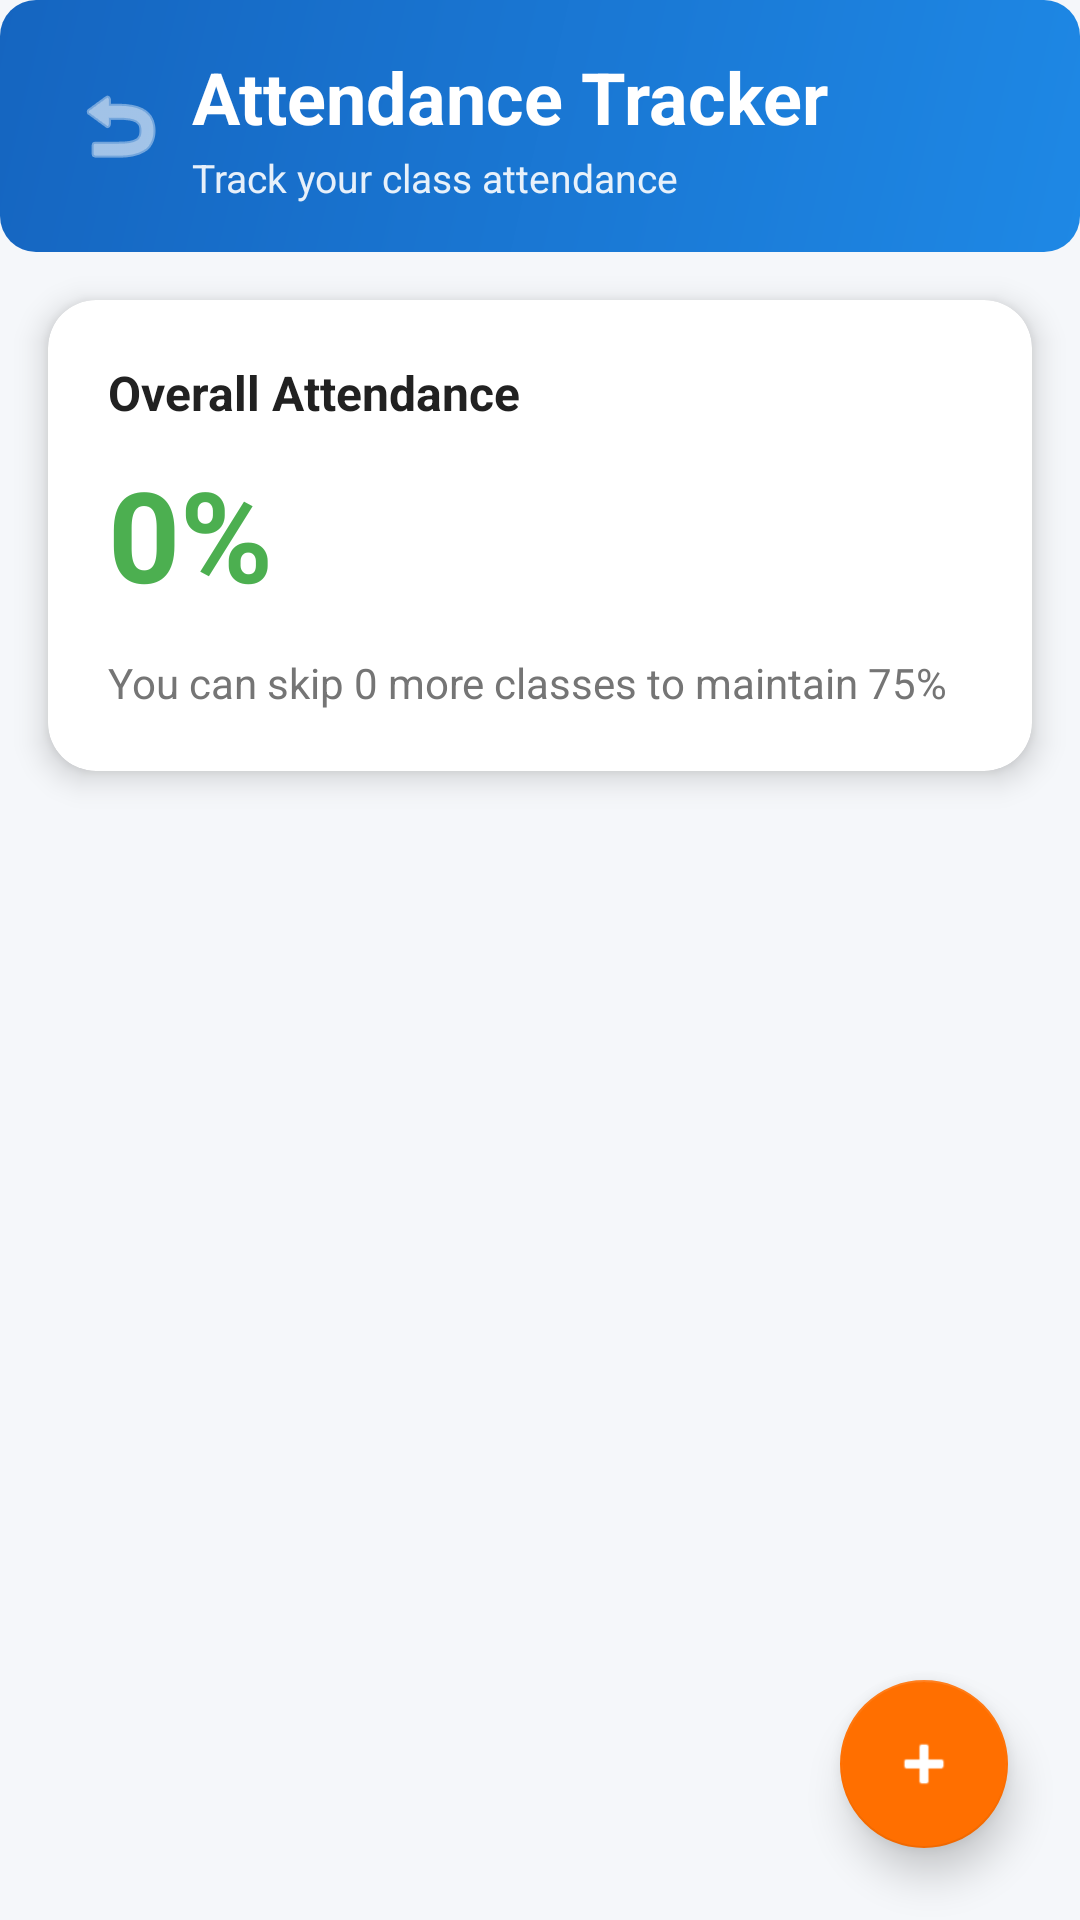

Icons on this 1080x1920 Android screen, each with its box as bbox=(x1, y1, x2, y2):
add: bbox=(840, 1680, 1008, 1848)
Back: bbox=(87, 95, 156, 158)
